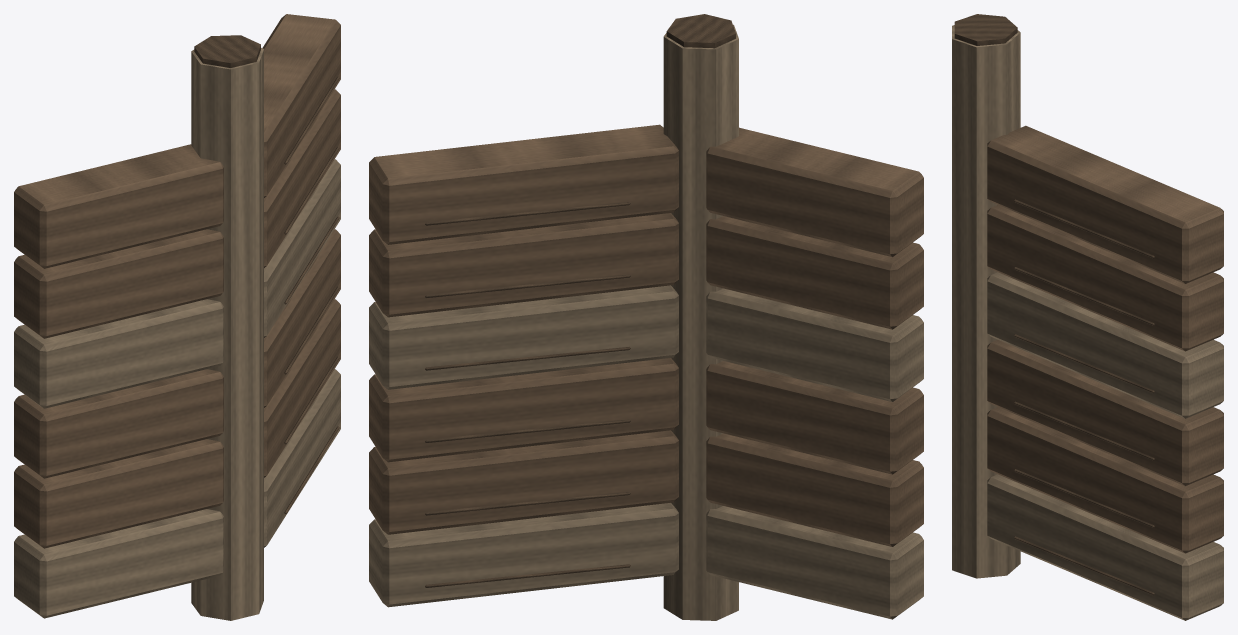
File: wall_mask_72.glb
3 renders of one model, left to right at view 1: azimuth 30°, elevation 25°; view 2: azimuth 150°, elevation 25°; view 3: azimuth 270°, elevation 25°, orthographic. The views are drawn at different scales.
Visible parts, largest first — view 1: Weathered timber, Timber worn edges, Dark endgrain; view 2: Weathered timber, Timber worn edges, Dark endgrain; view 3: Weathered timber, Timber worn edges, Dark endgrain.
Part boxes in pixels (left/top/right/bottom): Weathered timber: left=14, top=14, right=340, bottom=548; Timber worn edges: left=14, top=48, right=340, bottom=620; Dark endgrain: left=194, top=35, right=339, bottom=514; Weathered timber: left=369, top=124, right=923, bottom=546; Timber worn edges: left=369, top=24, right=923, bottom=620; Dark endgrain: left=425, top=14, right=735, bottom=587; Weathered timber: left=987, top=125, right=1223, bottom=553; Timber worn edges: left=952, top=25, right=1223, bottom=620; Dark endgrain: left=954, top=14, right=1154, bottom=595.
Bounding box in the file's own units: 1.09 × 1.39 × 0.64.
Materials: 3 (3 with a texture image).
